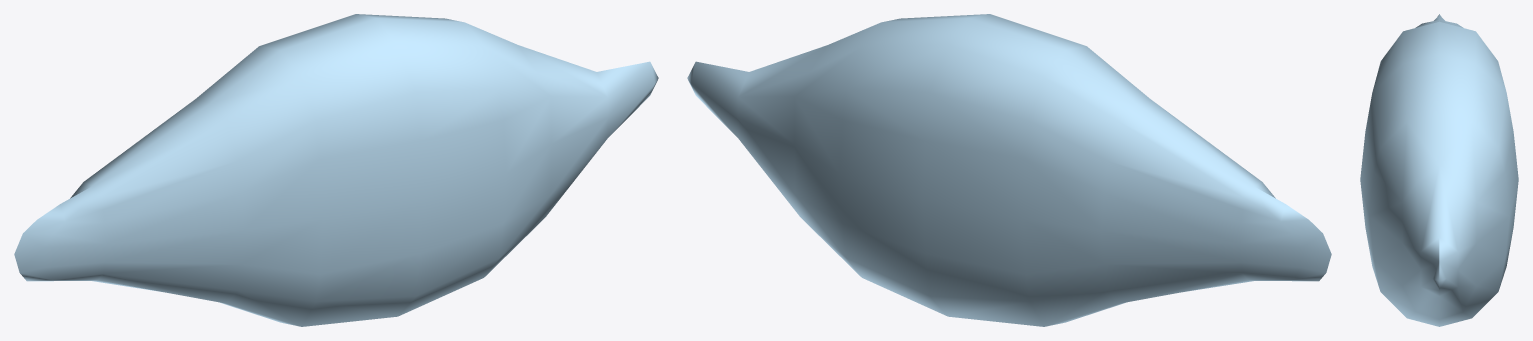
Rendered from Salp.fbx.
3 renders of one model, left to right at view 1: azimuth 30°, elevation 25°; view 2: azimuth 150°, elevation 25°; view 3: azimuth 270°, elevation 25°, orthographic. The views are drawn at different scales.
Visible parts, largest first — view 1: Layer Gel; view 2: Layer Gel; view 3: Layer Gel.
Boxes of the visible parts, x1,y1,x2,y2 form: Layer Gel: (14,14,658,326); Layer Gel: (687,14,1331,326); Layer Gel: (1360,14,1518,326).
Bounding box in the file's own units: 492 × 215 × 123.
